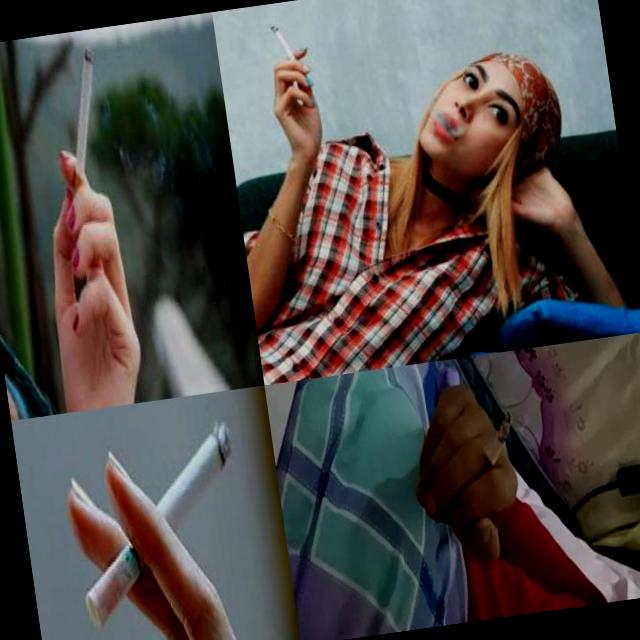smoke: (9, 45, 154, 412), (64, 421, 255, 634), (393, 374, 544, 574), (268, 17, 334, 159)
